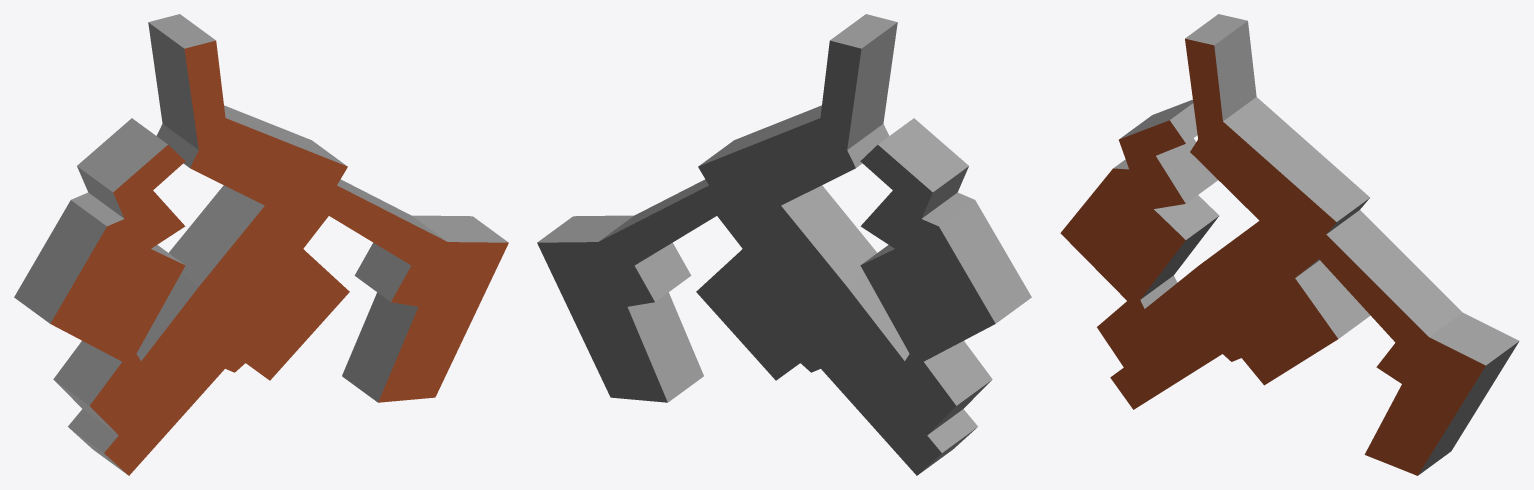
Rendered from construction_5386_assumed_A_Casa_h6m.obj.
3 renders of one model, left to right at view 1: azimuth 30°, elevation 25°; view 2: azimuth 150°, elevation 25°; view 3: azimuth 330°, elevation 25°, orthographic. The views are drawn at different scales.
Visible parts, largest first — view 1: construction_5386_assumed_A_Casa; view 2: construction_5386_assumed_A_Casa; view 3: construction_5386_assumed_A_Casa.
Part boxes in pixels (bbox=[...]): construction_5386_assumed_A_Casa: bbox=[14, 14, 508, 475]; construction_5386_assumed_A_Casa: bbox=[537, 14, 1031, 475]; construction_5386_assumed_A_Casa: bbox=[1060, 14, 1519, 475].
Size of the model in its own units: 43.82 by 37.81 by 6.
